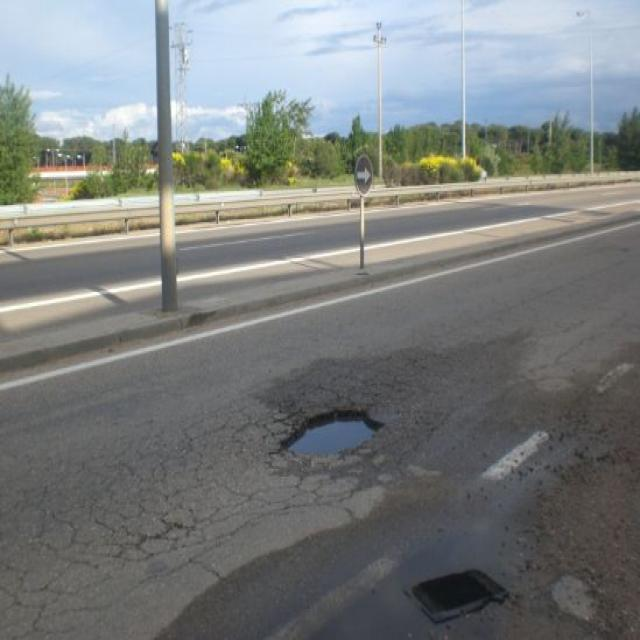pothole: (272, 402, 384, 468)
